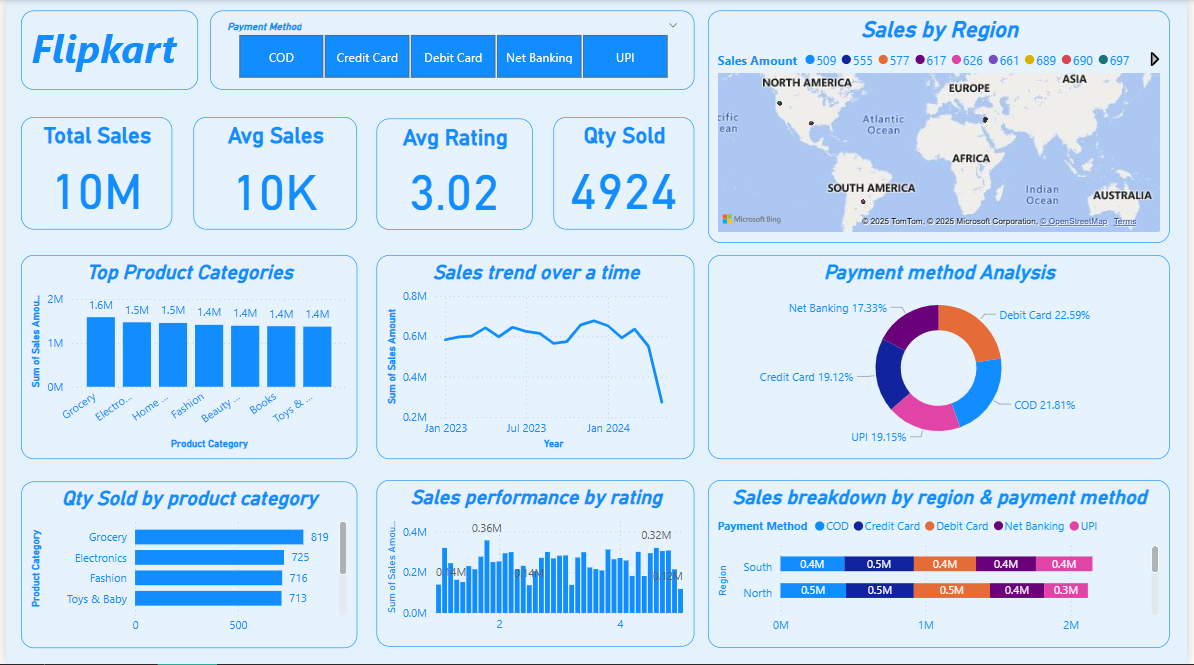

Layout of this report page (visuals, bound fields, positions):
{"tool":"powerbi","page":{"name":"Page 1","canvas":[1280,720],"ordinal":0},"visuals":[{"type":"card","title":"Total Sales","fields":{"Values":["Sum(Sheet1.Sales Amount)"]},"box":[16.3,126.9,164.3,122],"z":0},{"type":"card","title":"Avg Sales","fields":{"Values":["Avg(Sheet1.Sales Amount)"]},"box":[202.8,126.9,177.3,122],"z":1000},{"type":"card","title":"Avg Rating","fields":{"Values":["Avg(Sheet1.Customer Rating)"]},"box":[402.3,128.5,169.2,120.4],"z":2000},{"type":"card","title":"Qty Sold","fields":{"Values":["Sum(Sheet1.Quantity Sold)"]},"box":[593.7,126.9,152.9,122],"z":3000},{"type":"map","title":"Sales by Region","fields":{"Category":["Sheet1.Region"],"Series":["Sheet1.Sales Amount"]},"box":[761.2,11.4,501,252.1],"z":4000},{"type":"columnChart","title":"Top Product Categories","fields":{"Category":["Sheet1.Product Category"],"Y":["Sum(Sheet1.Sales Amount)"]},"box":[16.3,276.5,364.3,221.2],"z":5000},{"type":"lineChart","title":"Sales trend over a time","fields":{"Category":["Sheet1.Order Date.Variation.Date Hierarchy.Year","Sheet1.Order Date.Variation.Date Hierarchy.Quarter","Sheet1.Order Date.Variation.Date Hierarchy.Month","Sheet1.Order Date.Variation.Date Hierarchy.Day"],"Y":["Sum(Sheet1.Sales Amount)"]},"box":[401.8,276.5,344.8,221.2],"z":6000},{"type":"donutChart","title":"Payment method Analysis","fields":{"Category":["Sheet1.Payment Method"],"Y":["Sum(Sheet1.Sales Amount)"]},"box":[761.2,276.5,501,221.2],"z":7000},{"type":"clusteredBarChart","title":"Qty Sold by product category","fields":{"Category":["Sheet1.Product Category"],"Y":["Sum(Sheet1.Quantity Sold)"]},"box":[16.3,522.1,364.3,180.5],"z":8000},{"type":"clusteredColumnChart","title":"Sales performance by rating","fields":{"Category":["Sheet1.Customer Rating"],"Y":["Sum(Sheet1.Sales Amount)"]},"box":[401.8,520.5,344.8,180.5],"z":9000},{"type":"barChart","title":"Sales breakdown by region & payment method","fields":{"Category":["Sheet1.Region"],"Y":["Sum(Sheet1.Sales Amount)"],"Series":["Sheet1.Payment Method"]},"box":[761.2,520.5,501,182.2],"z":10000},{"type":"slicer","fields":{"Values":["Sheet1.Payment Method"]},"box":[221.2,11.4,525.4,86.2],"z":11000},{"type":"textbox","box":[16.3,11.4,191.9,86.2],"z":12000}]}

Visuals, with their boxes in screenshot pixels (x1, y1, x2, y2), scaled from the page's 1280x720 canvas onto the 1194x665 screenshot:
"Total Sales" card: BBox(15, 117, 168, 230)
"Avg Sales" card: BBox(189, 117, 355, 230)
"Avg Rating" card: BBox(375, 119, 533, 230)
"Qty Sold" card: BBox(554, 117, 696, 230)
"Sales by Region" map: BBox(710, 11, 1177, 243)
"Top Product Categories" columnChart: BBox(15, 255, 355, 460)
"Sales trend over a time" lineChart: BBox(375, 255, 696, 460)
"Payment method Analysis" donutChart: BBox(710, 255, 1177, 460)
"Qty Sold by product category" clusteredBarChart: BBox(15, 482, 355, 649)
"Sales performance by rating" clusteredColumnChart: BBox(375, 481, 696, 647)
"Sales breakdown by region & payment method" barChart: BBox(710, 481, 1177, 649)
slicer - Sheet1.Payment Method: BBox(206, 11, 696, 90)
textbox: BBox(15, 11, 194, 90)
